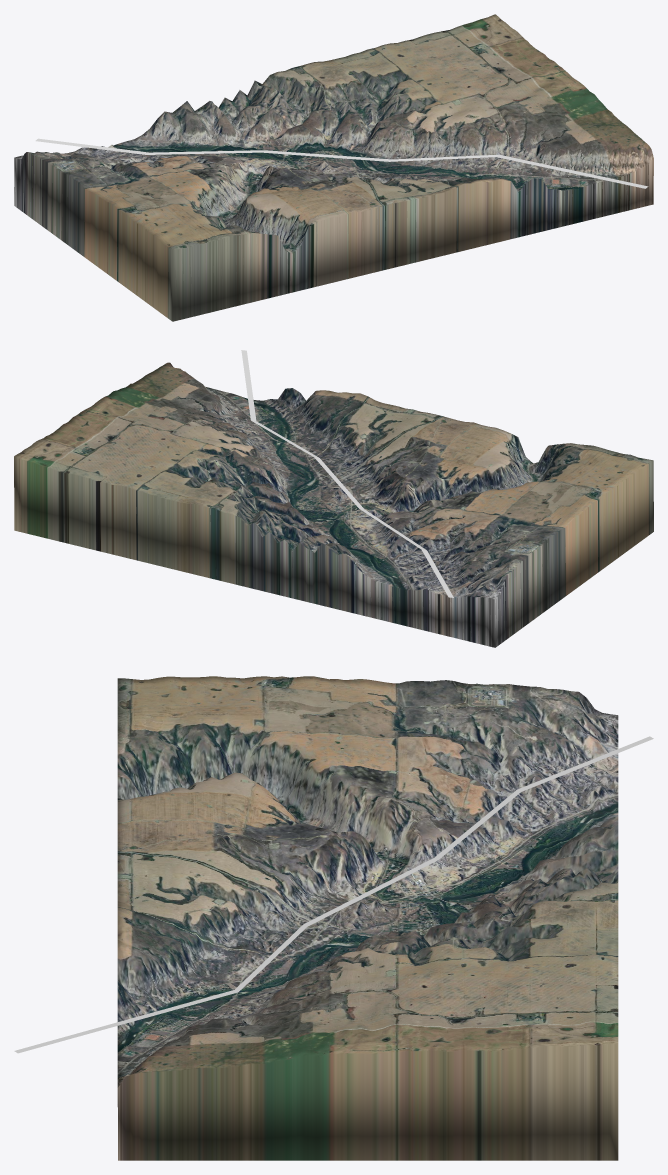
File: drumheller-resized.glb
The picture shows the model from 3 angles, top to bottom: view 1: azimuth 30°, elevation 25°; view 2: azimuth 150°, elevation 25°; view 3: azimuth 270°, elevation 25°; orthographic projection. The views are drawn at different scales.
Visible parts, largest first — view 1: mesh, road; view 2: mesh, road; view 3: mesh, road.
Part boxes in pixels (x1,y1,x2,y2): mesh: [14, 14, 653, 321]; road: [35, 138, 648, 188]; mesh: [14, 362, 653, 647]; road: [241, 350, 453, 597]; mesh: [117, 676, 618, 1160]; road: [14, 736, 653, 1053].
Bounding box in the file's own units: 8.57 × 1.26 × 6.26.
Materials: 1 (1 with a texture image).
